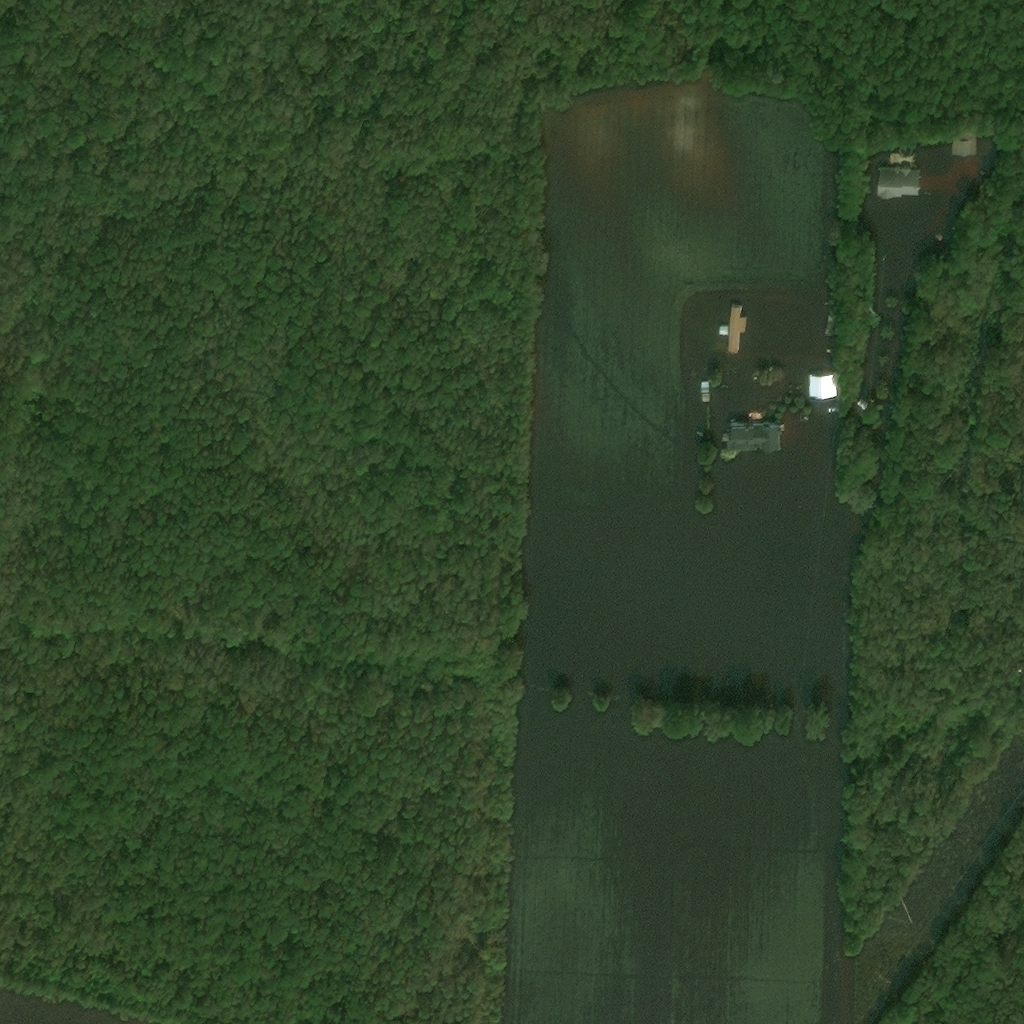major_damage: (720, 422, 779, 448), (875, 166, 918, 195), (725, 306, 745, 353), (951, 129, 974, 155), (807, 373, 828, 397), (716, 326, 727, 334), (700, 383, 707, 392), (700, 395, 707, 402)
